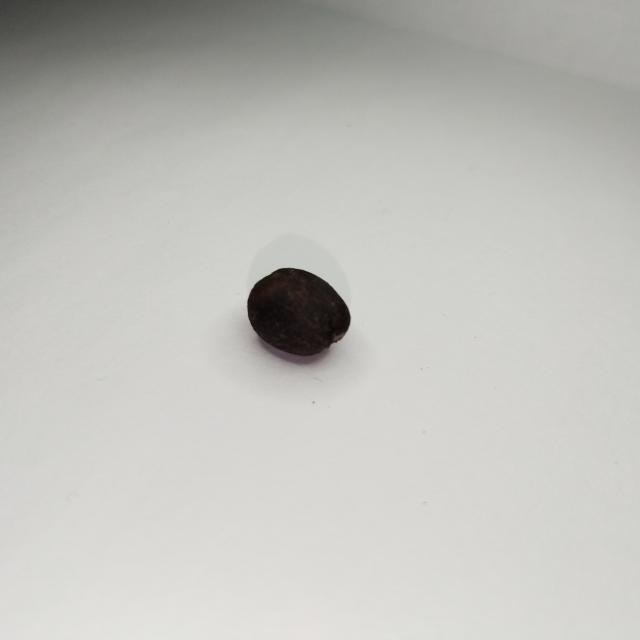Danado: (248, 270, 349, 356)
